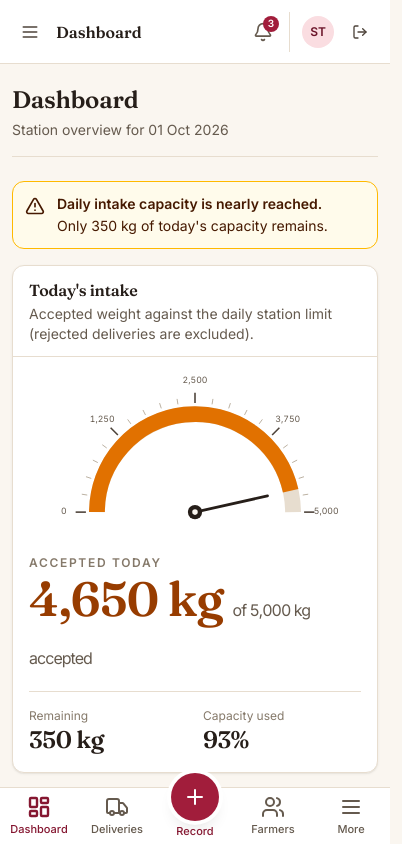
Test: sidebar follows the role › shows the user, role and a logout button in the header
Step 1. Click the button named "Log out" → coordinates (360, 32), box [342,16,378,48]
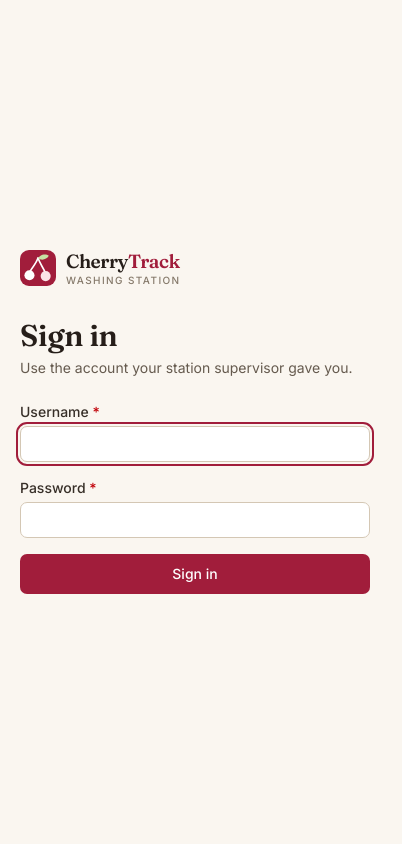
Expected: the heading "Sign in" is shown, [20,317,118,354]
